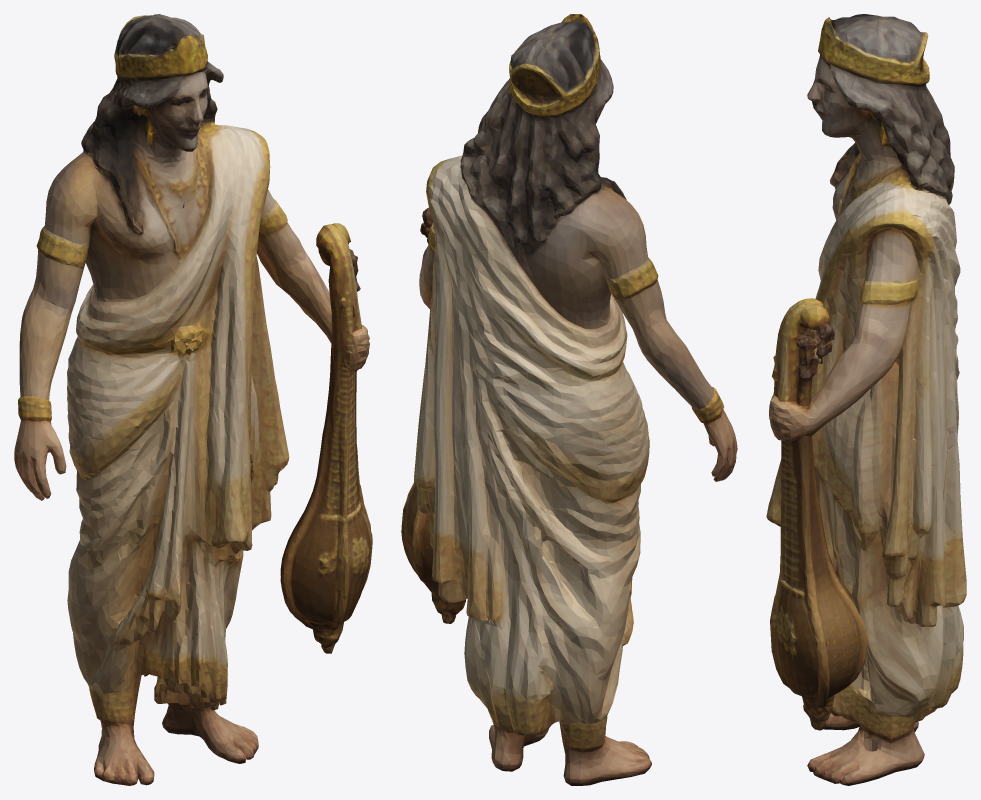
Rendered from chitrasena.glb.
The picture shows the model from 3 angles, left to right: view 1: azimuth 30°, elevation 25°; view 2: azimuth 150°, elevation 25°; view 3: azimuth 270°, elevation 25°; orthographic projection.
Visible parts, largest first — view 1: world; view 2: world; view 3: world.
Part boxes in pixels (x1,y1,x2,y2): world: (14, 14, 372, 785); world: (401, 14, 737, 785); world: (766, 14, 966, 785).
Bounding box in the file's own units: 0.4875 × 1 × 0.2482.
Materials: 1 (1 with a texture image).
